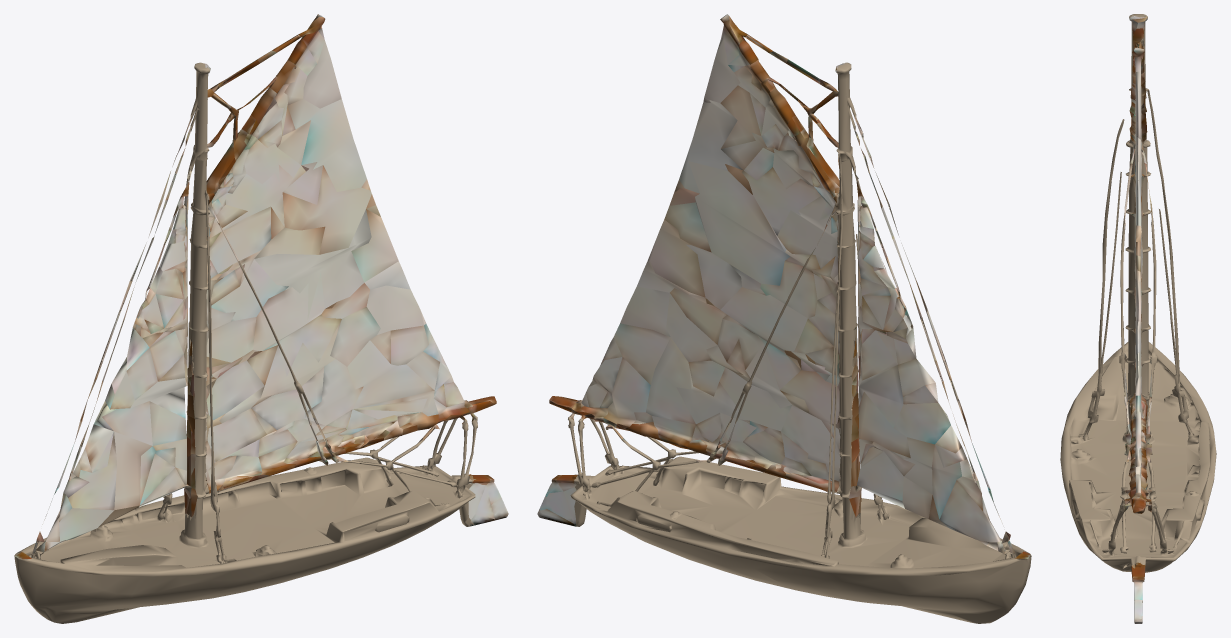
The model's file is bac.glb.
The picture shows the model from 3 angles, left to right: view 1: azimuth 30°, elevation 25°; view 2: azimuth 150°, elevation 25°; view 3: azimuth 270°, elevation 25°; orthographic projection. The views are drawn at different scales.
Parts seen in each view (by area): view 1: Vela, lite_static, Foc, Leme; view 2: Vela, lite_static, Foc, Leme; view 3: lite_static, Vela, Leme.
Part boxes in pixels (<box>): Vela: <box>203,14,496,493</box>; lite_static: <box>14,62,477,623</box>; Foc: <box>15,118,197,559</box>; Leme: <box>468,474,508,526</box>; Vela: <box>549,14,846,491</box>; lite_static: <box>568,62,1031,623</box>; Foc: <box>849,118,1030,558</box>; Leme: <box>537,474,577,526</box>; lite_static: <box>1060,14,1216,602</box>; Vela: <box>1124,16,1151,513</box>; Leme: <box>1131,562,1145,623</box>.
Bounding box in the file's own units: 11.5 × 12.24 × 3.5.
2 materials, 1 textured.
